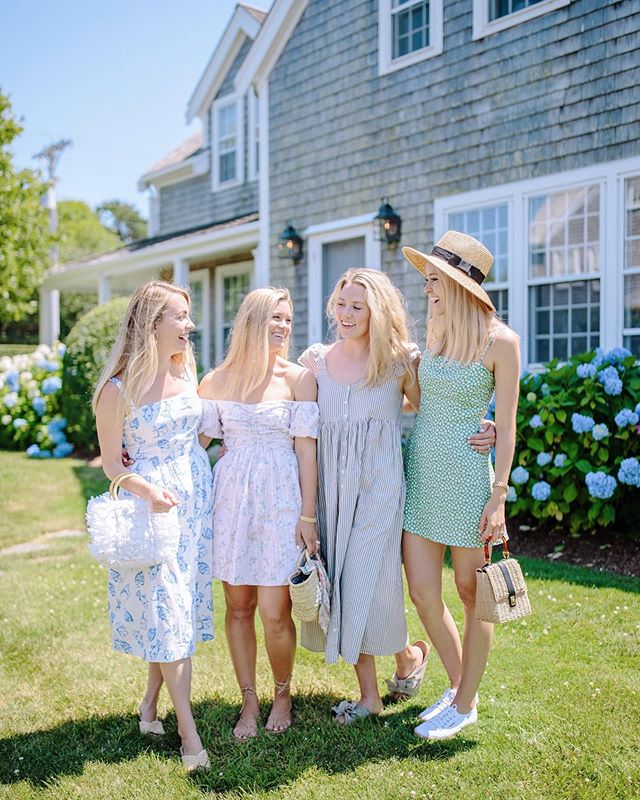Person: (93, 280, 215, 777), (408, 231, 520, 741), (217, 285, 318, 741), (320, 266, 409, 724)
